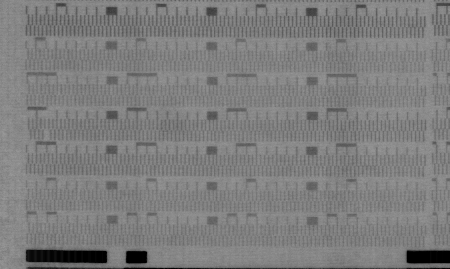Broken hole: (41, 129, 54, 141)
